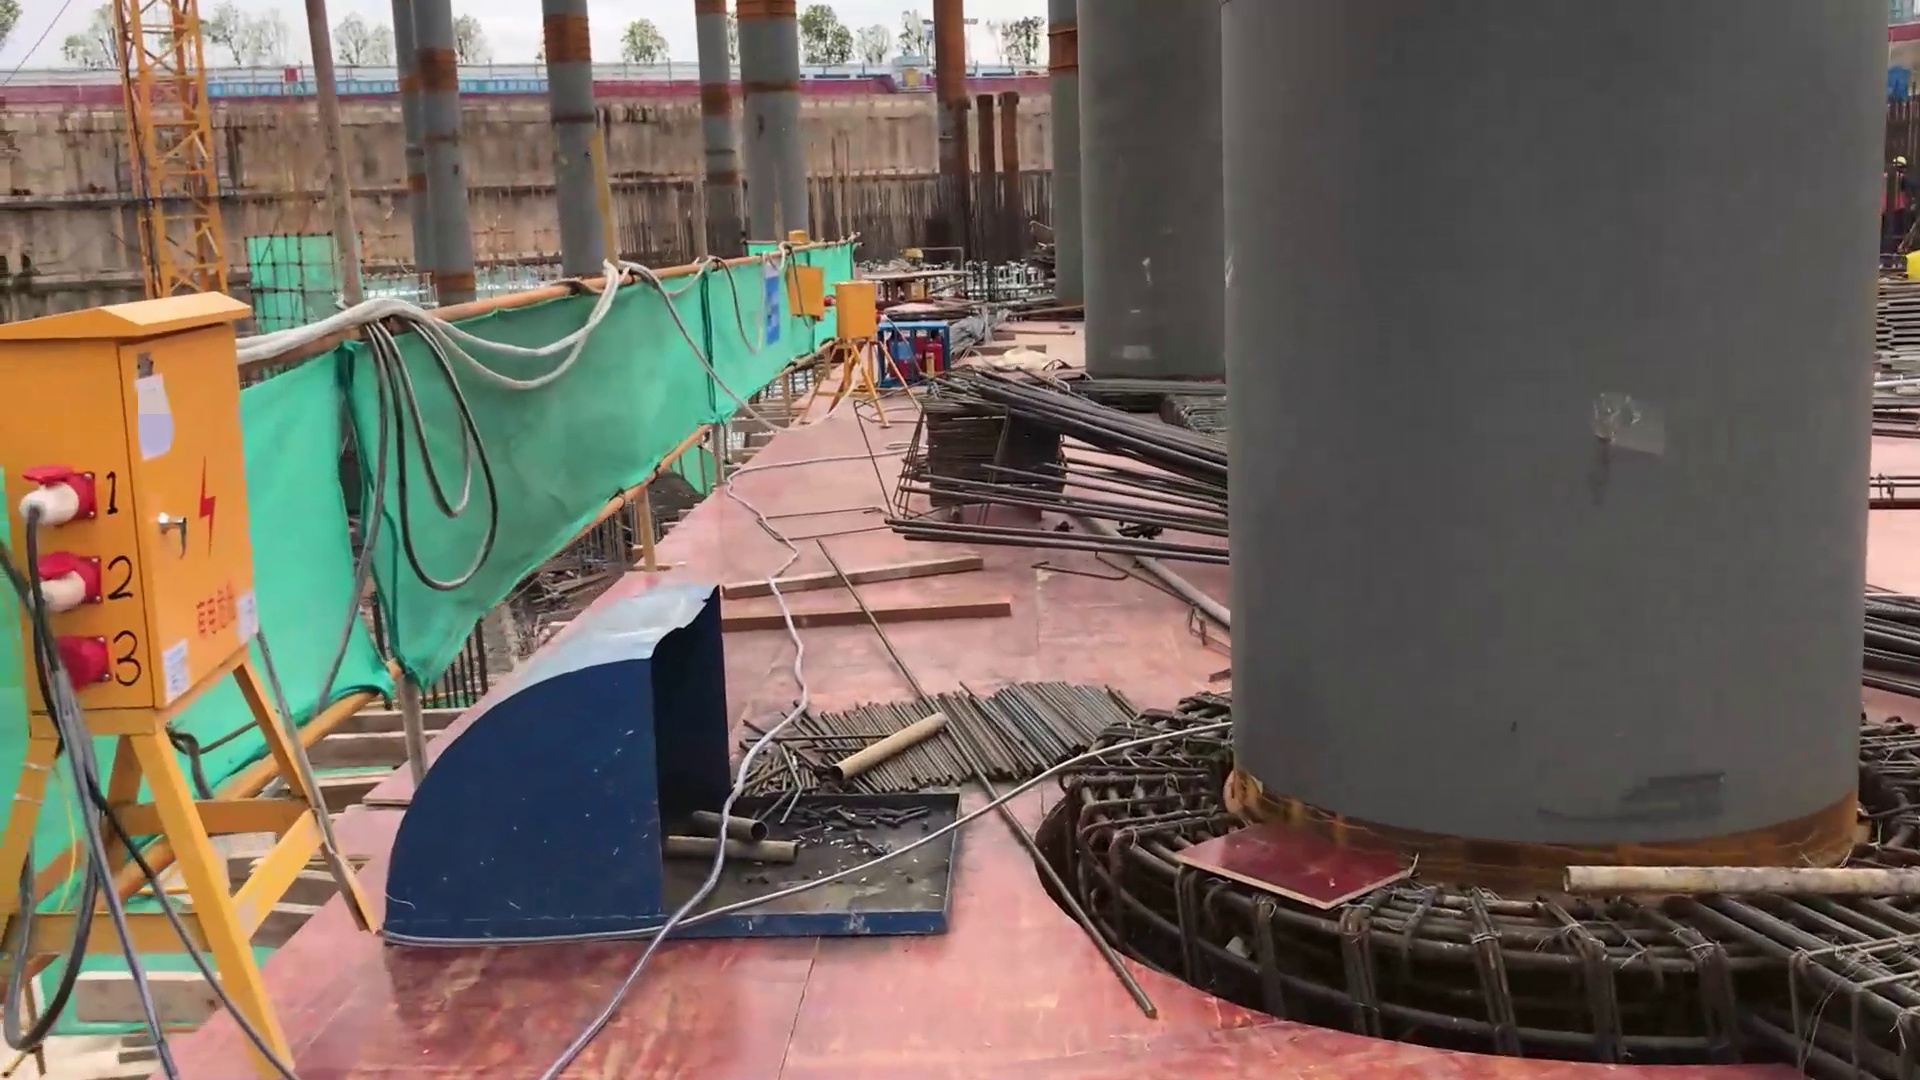cutter: (871, 252, 966, 302)
ebox: (71, 339, 286, 689), (839, 281, 876, 334), (783, 264, 813, 309)
person: (1876, 153, 1913, 253)
rebar: (899, 353, 1239, 561)
